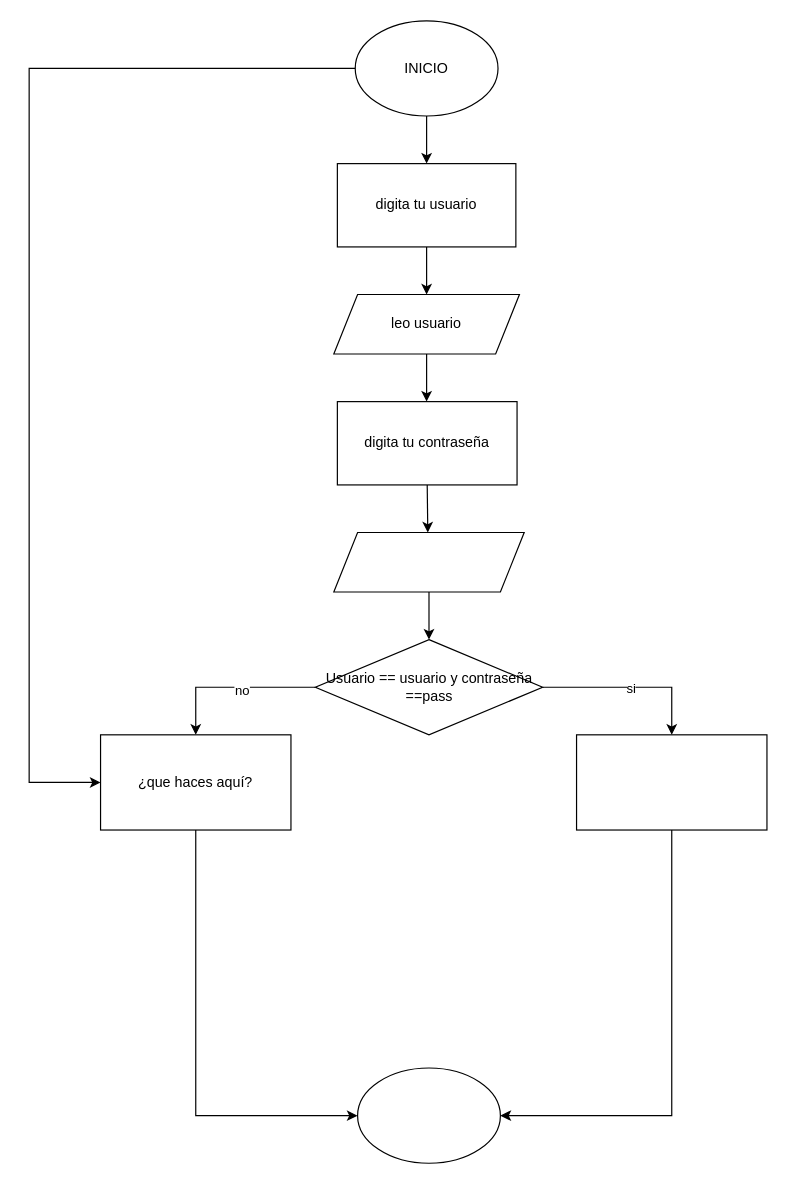
The diagram is 788 pixels wide and 1184 high, and some of its shapes have lost their labels. Each missing label, with the centre of its shape:
bienvenido: the point at 671,782
FIN: the point at 428,1115
leo contraseña: the point at 428,561
